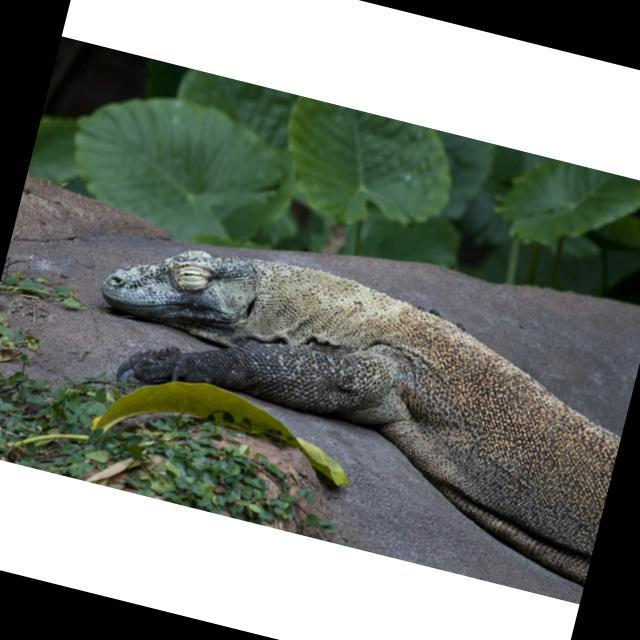KomodoDragon: (63, 221, 640, 587)
